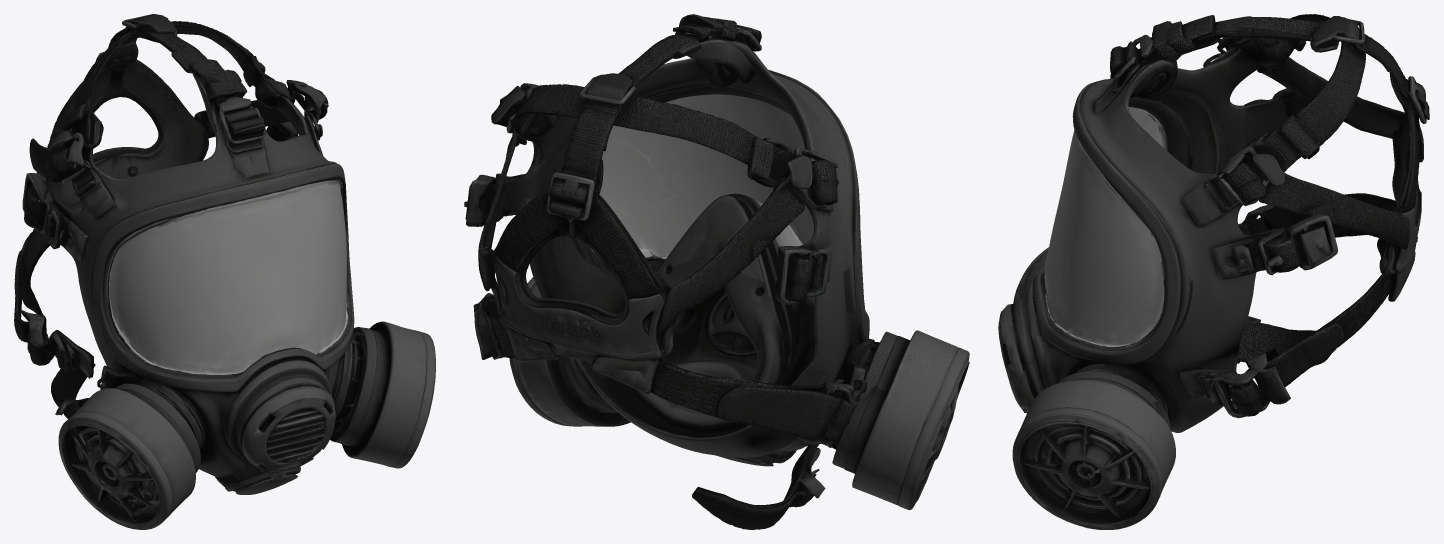
The model's file is PPE_A_Mask.fbx.
3 renders of one model, left to right at view 1: azimuth 30°, elevation 25°; view 2: azimuth 150°, elevation 25°; view 3: azimuth 270°, elevation 25°, orthographic. The views are drawn at different scales.
Parts seen in each view (by area): view 1: tripo_part_9, tripo_part_0, tripo_part_3, tripo_part_1, tripo_part_2, tripo_part_24, tripo_part_5, tripo_part_8, tripo_part_10, tripo_part_7, tripo_part_22, tripo_part_13 (+13 smaller); view 2: tripo_part_0, tripo_part_25, tripo_part_3, tripo_part_2, tripo_part_7, tripo_part_5, tripo_part_1, tripo_part_14, tripo_part_19, tripo_part_8, tripo_part_23, tripo_part_27 (+16 smaller); view 3: tripo_part_0, tripo_part_1, tripo_part_9, tripo_part_4, tripo_part_8, tripo_part_22, tripo_part_12, tripo_part_15, tripo_part_11, tripo_part_24, tripo_part_2, tripo_part_19 (+13 smaller).
Part boxes in pixels (x1,y1,x2,y2): tripo_part_9: [109, 183, 346, 374]; tripo_part_0: [52, 72, 354, 477]; tripo_part_3: [58, 383, 200, 529]; tripo_part_1: [330, 321, 435, 468]; tripo_part_2: [46, 59, 208, 210]; tripo_part_24: [237, 375, 335, 471]; tripo_part_5: [14, 250, 93, 378]; tripo_part_8: [122, 14, 247, 106]; tripo_part_10: [22, 173, 88, 261]; tripo_part_7: [47, 28, 139, 153]; tripo_part_22: [171, 21, 295, 109]; tripo_part_13: [43, 132, 102, 197]; tripo_part_0: [502, 37, 869, 457]; tripo_part_25: [590, 94, 813, 257]; tripo_part_3: [832, 330, 969, 510]; tripo_part_2: [492, 188, 674, 363]; tripo_part_7: [613, 95, 812, 189]; tripo_part_5: [715, 378, 857, 444]; tripo_part_1: [509, 277, 630, 426]; tripo_part_14: [546, 92, 622, 220]; tripo_part_19: [658, 210, 774, 358]; tripo_part_8: [579, 14, 736, 105]; tripo_part_23: [692, 444, 825, 529]; tripo_part_27: [591, 354, 699, 404]; tripo_part_0: [1025, 38, 1287, 432]; tripo_part_1: [1012, 371, 1175, 529]; tripo_part_9: [1044, 130, 1164, 345]; tripo_part_4: [1178, 274, 1391, 418]; tripo_part_8: [1152, 15, 1364, 62]; tripo_part_22: [1242, 42, 1365, 172]; tripo_part_12: [1211, 214, 1337, 279]; tripo_part_15: [1259, 172, 1410, 273]; tripo_part_11: [1203, 146, 1284, 214]; tripo_part_24: [998, 298, 1043, 413]; tripo_part_2: [1377, 103, 1421, 275]; tripo_part_19: [1293, 69, 1423, 162].
Size of the model in its own units: 0.9273 by 1 by 0.8923.
